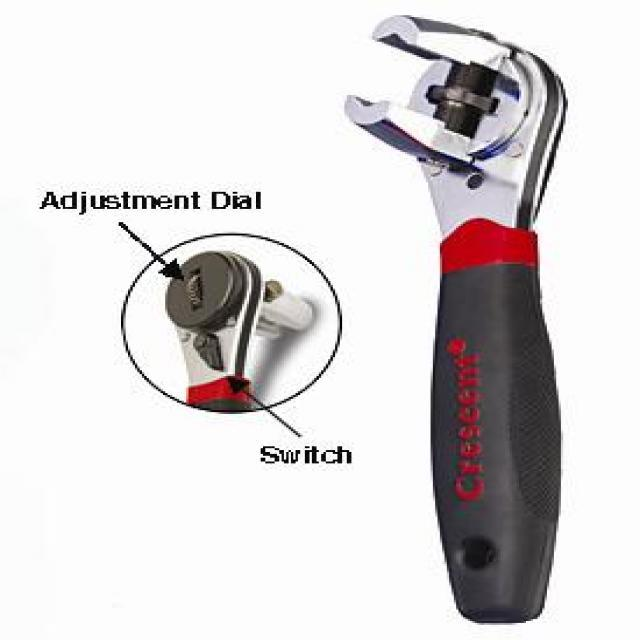wrench: (337, 0, 581, 629)
